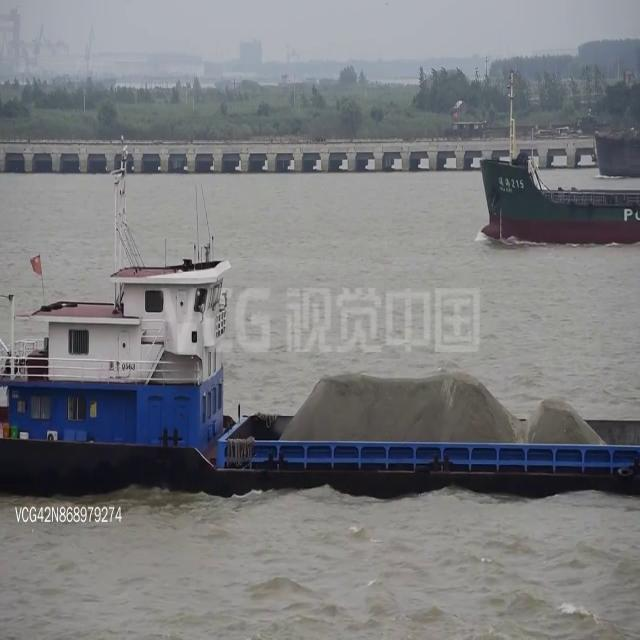cargoship: (14, 216, 622, 519)
